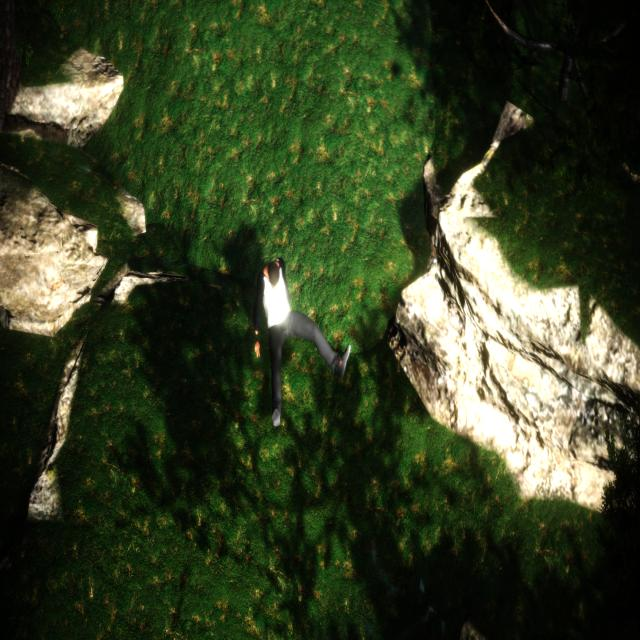Human: (241, 253, 355, 431)
